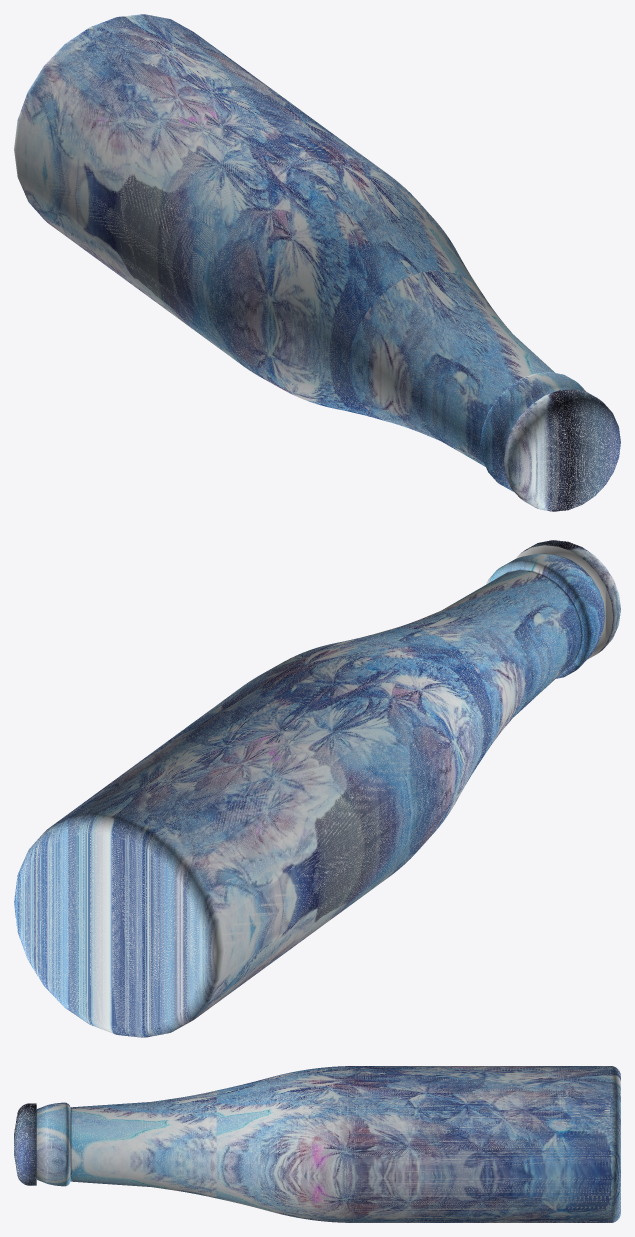
Rendered from model_align.obj.
The picture shows the model from 3 angles, top to bottom: view 1: azimuth 30°, elevation 25°; view 2: azimuth 150°, elevation 25°; view 3: azimuth 270°, elevation 25°; orthographic projection. The views are drawn at different scales.
Parts seen in each view (by area): view 1: mesh1_mesh1-geometry; view 2: mesh1_mesh1-geometry; view 3: mesh1_mesh1-geometry.
Boxes of the visible parts, x1,y1,x2,y2 form: mesh1_mesh1-geometry: (14,14,620,511); mesh1_mesh1-geometry: (14,540,620,1037); mesh1_mesh1-geometry: (14,1066,620,1222).
Bounding box in the file's own units: 0.0404 × 0.0404 × 0.1558.
